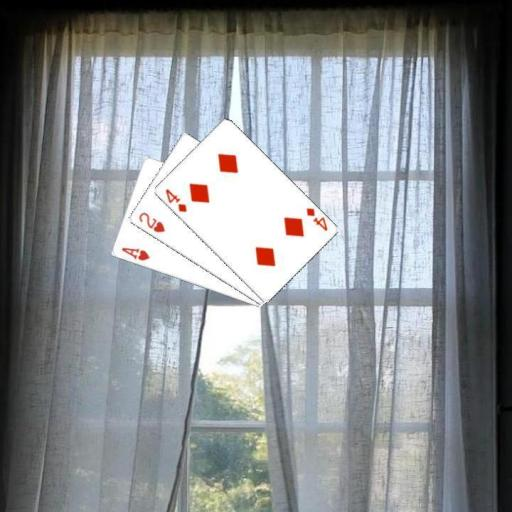card-corner: (135, 209, 167, 234), (161, 186, 188, 213), (303, 204, 328, 233), (118, 244, 151, 262)
